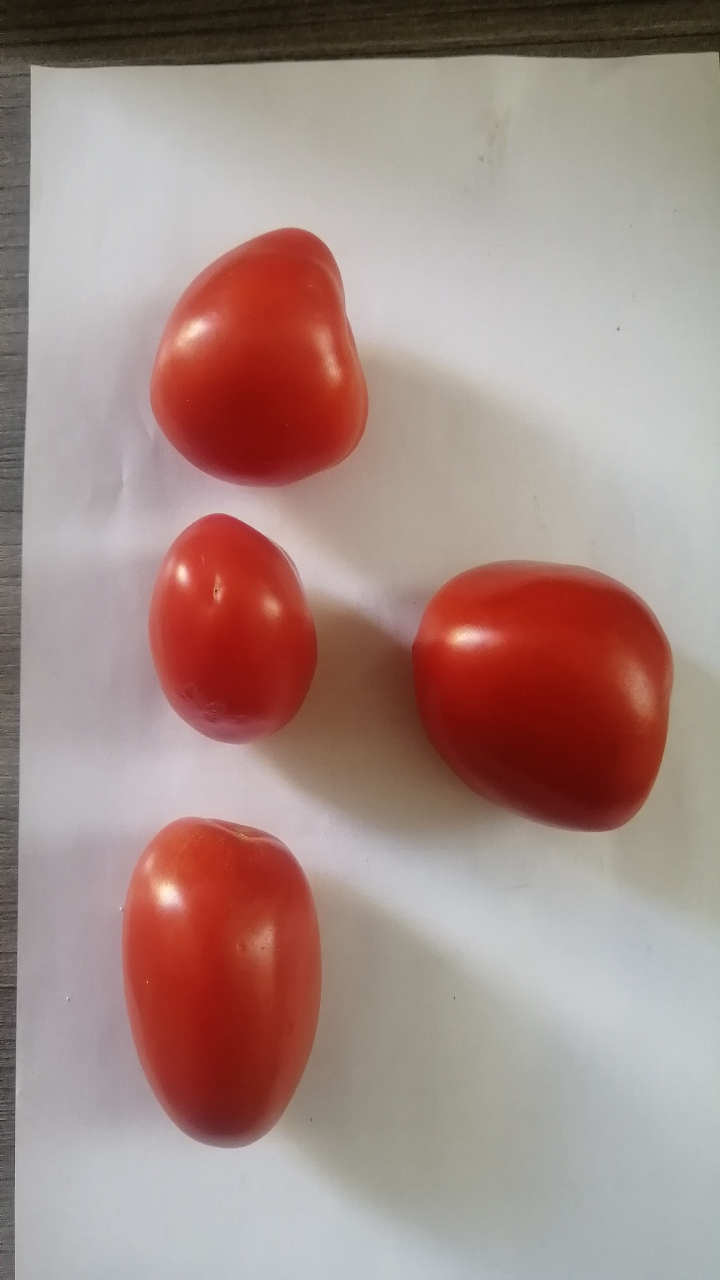tomateRojo: (381, 531, 678, 839), (129, 219, 420, 522), (98, 794, 334, 1166), (118, 491, 332, 762)
